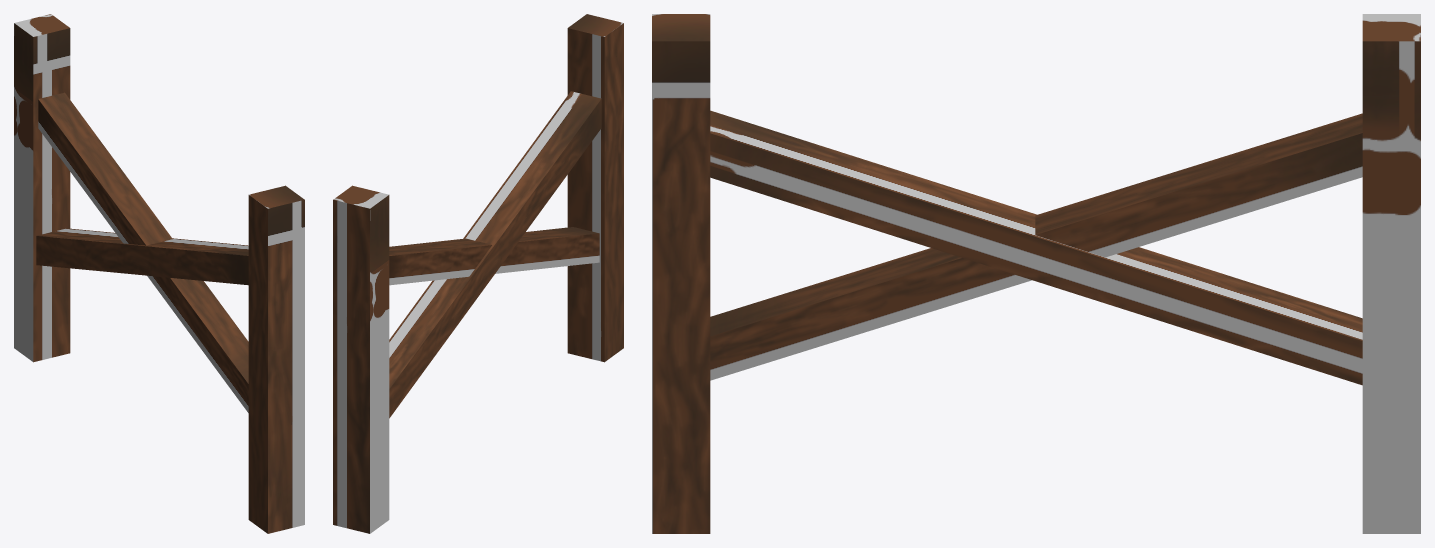
The model's file is wooden_gate.fbx.
3 renders of one model, left to right at view 1: azimuth 30°, elevation 25°; view 2: azimuth 150°, elevation 25°; view 3: azimuth 270°, elevation 25°, orthographic. The views are drawn at different scales.
Visible parts, largest first — view 1: Cube.001; view 2: Cube.001; view 3: Cube.001.
Boxes of the visible parts, x1=… form: Cube.001: x1=14, y1=14, x2=304, y2=533; Cube.001: x1=333, y1=14, x2=623, y2=533; Cube.001: x1=652, y1=14, x2=1420, y2=533.
Size of the model in its own units: 18.2 by 153 by 216.
